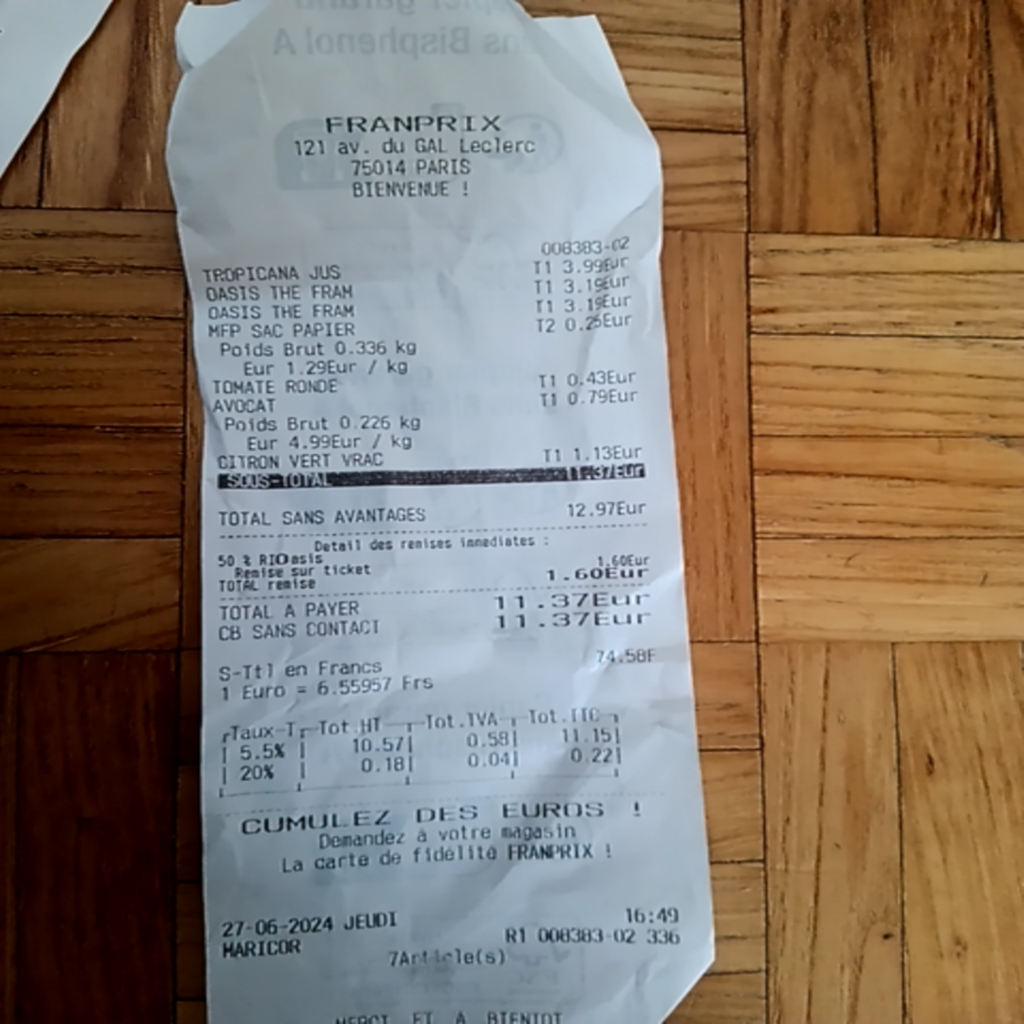recipt: (164, 0, 715, 1024)
